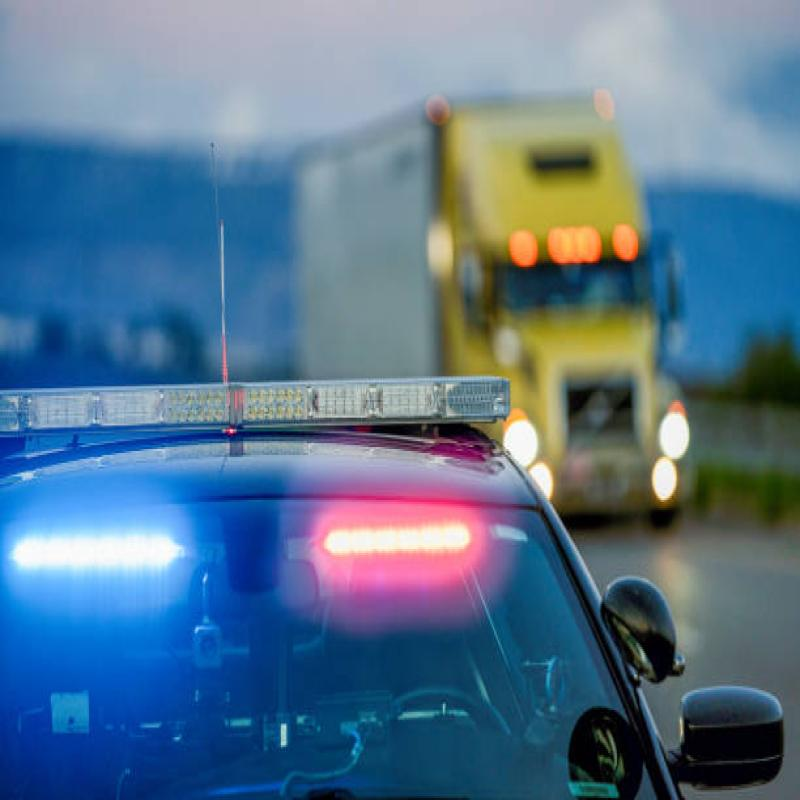AmbulanceSiren: (3, 508, 492, 604)
